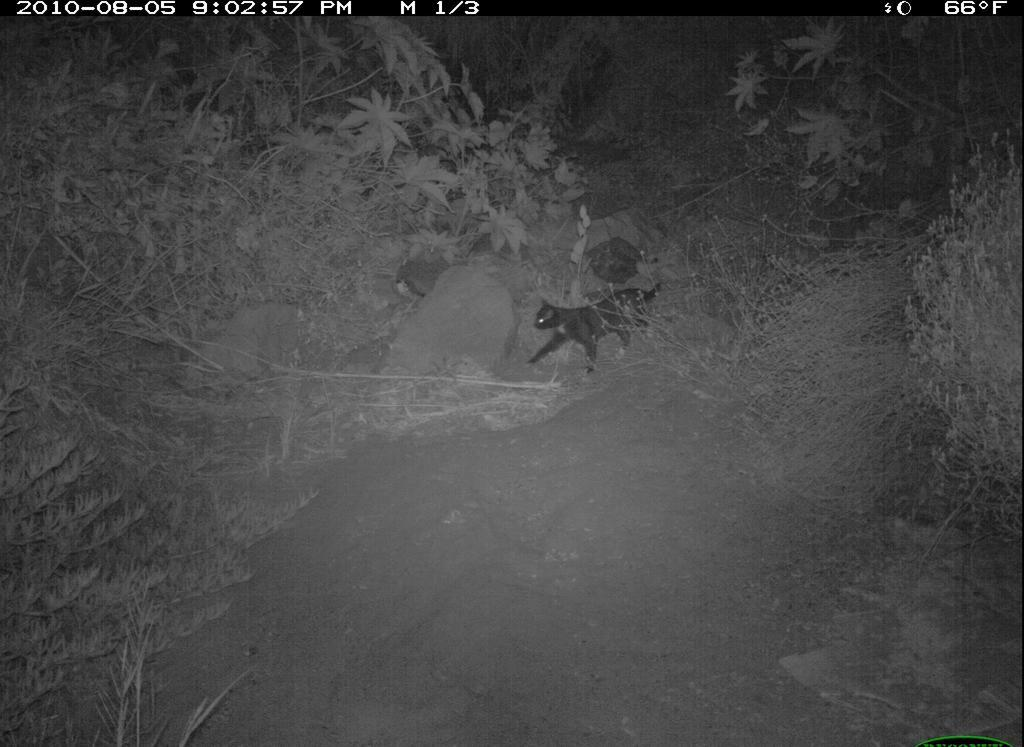cat: (518, 272, 675, 388)
